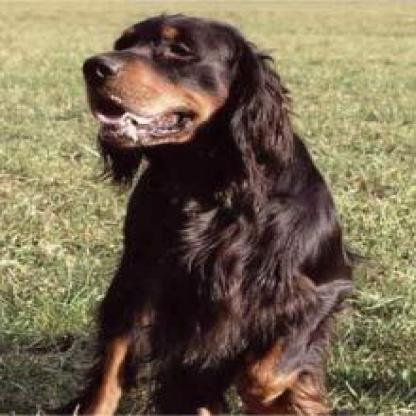Gordon_setter: (79, 9, 372, 413)
